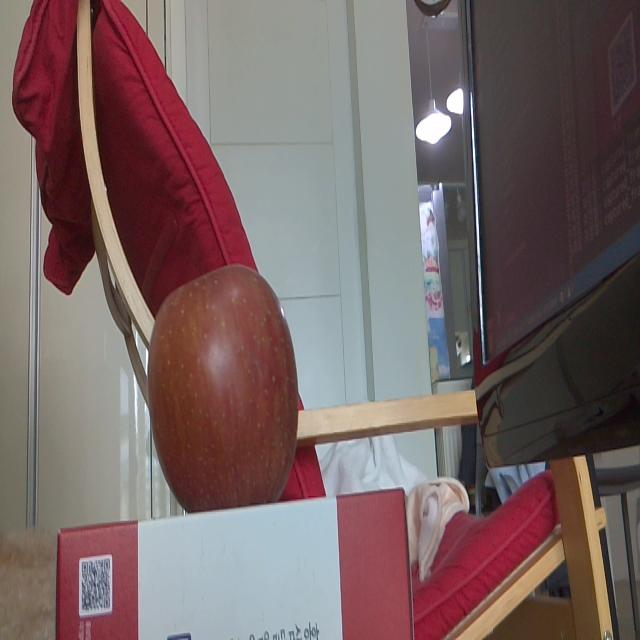apple: (148, 262, 296, 498)
